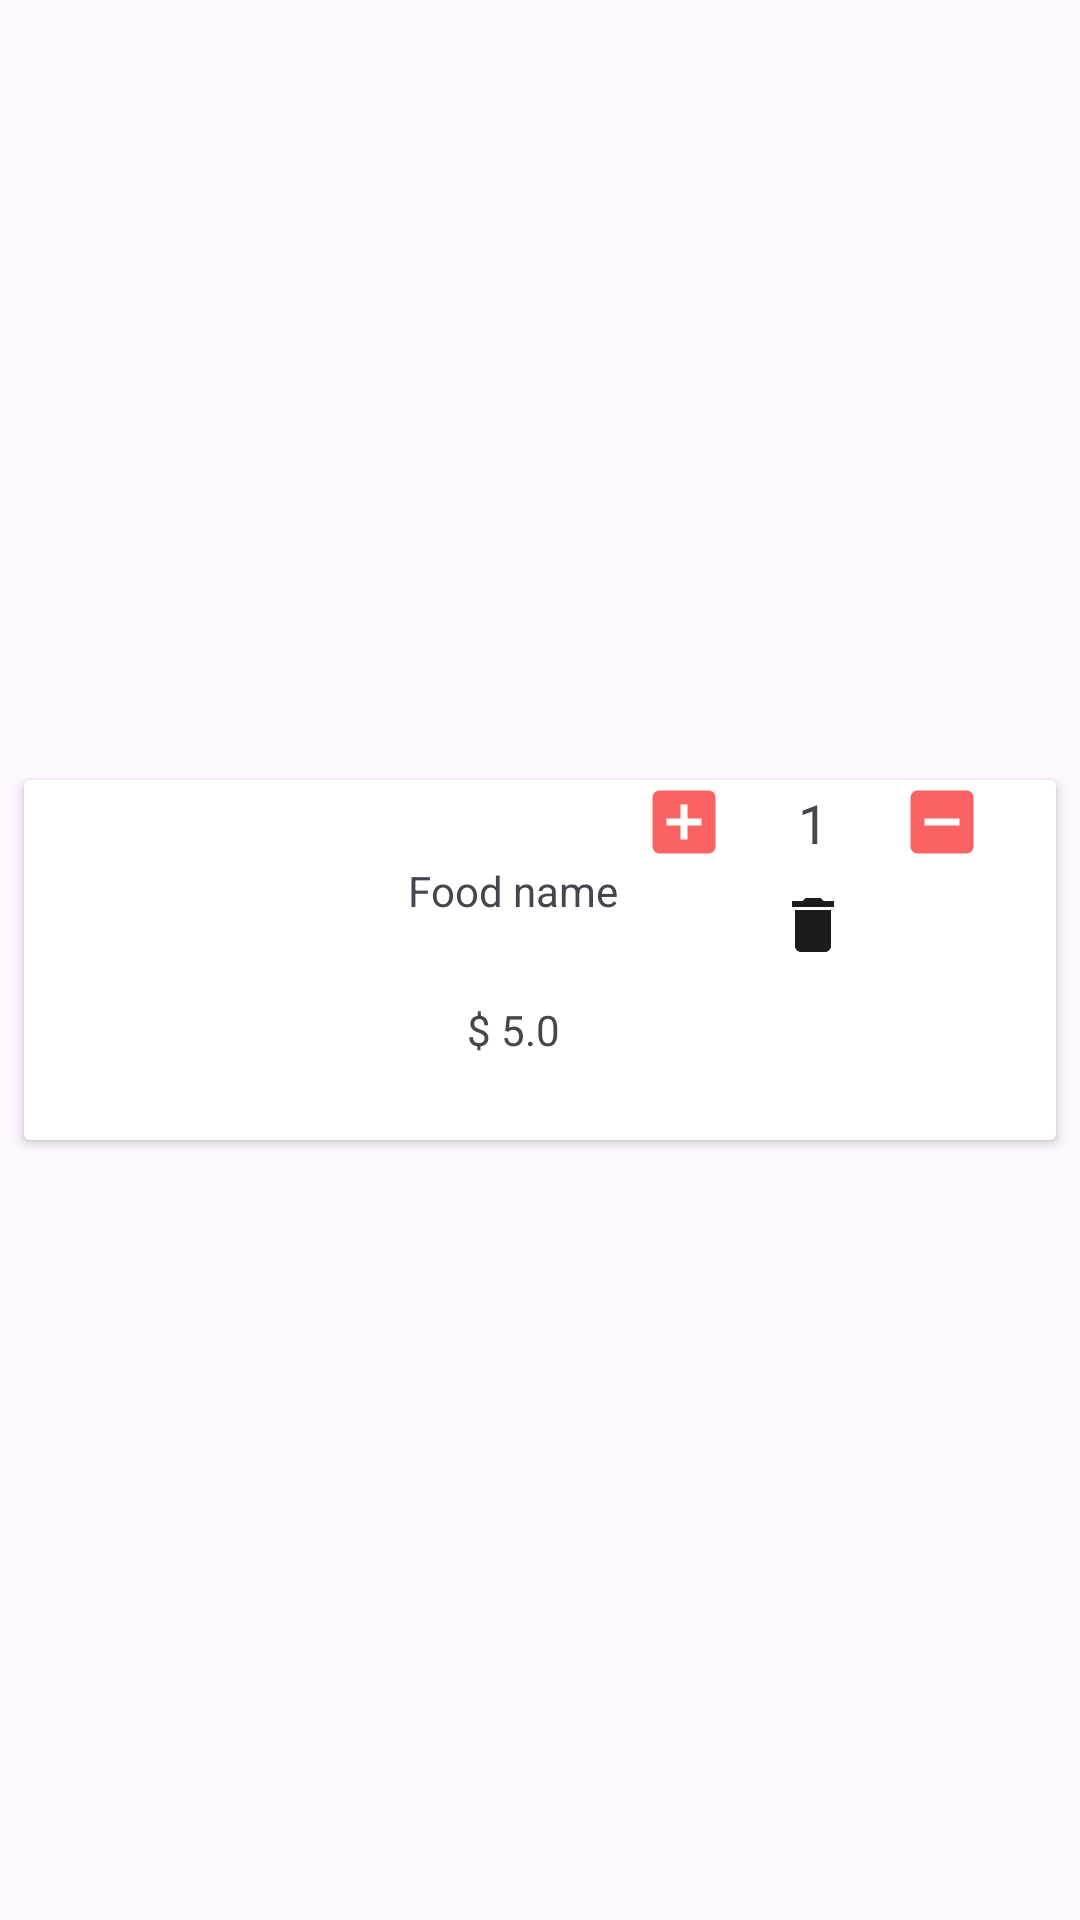

Named icons in this screenshot (1080 x 1920) and their bounding boxes, (x1, y1, x2, y2):
image trash: (792, 898, 834, 952)
indeterminate check box: (910, 790, 974, 854)
